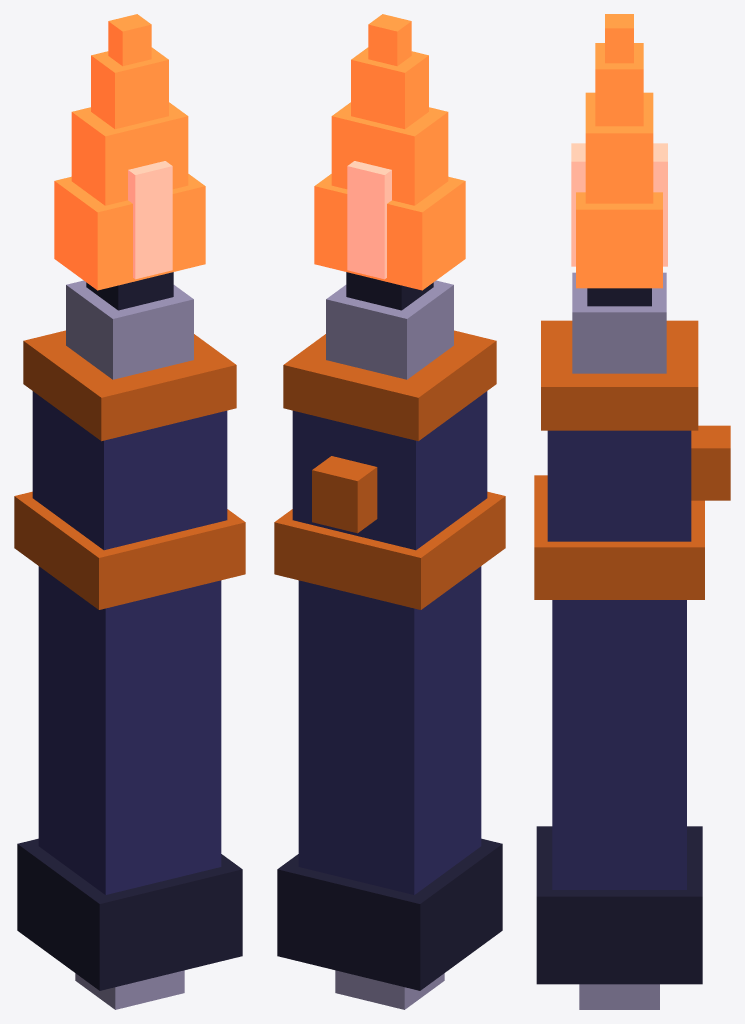
The model's file is welding_torch.lod1.glb.
The picture shows the model from 3 angles, left to right: view 1: azimuth 30°, elevation 25°; view 2: azimuth 150°, elevation 25°; view 3: azimuth 270°, elevation 25°; orthographic projection.
Parts seen in each view (by area): view 1: item.welding_torch.body, part.flame; view 2: item.welding_torch.body, part.flame; view 3: item.welding_torch.body, part.flame.
Boxes of the visible parts, box(x1,y1,x2,y2) form: item.welding_torch.body: box(14, 272, 245, 1009); part.flame: box(54, 14, 205, 290); item.welding_torch.body: box(274, 272, 505, 1009); part.flame: box(314, 14, 465, 290); item.welding_torch.body: box(534, 272, 730, 1009); part.flame: box(571, 14, 667, 288).
Bounding box in the file's own units: 0.1104 × 0.6937 × 0.1271.
